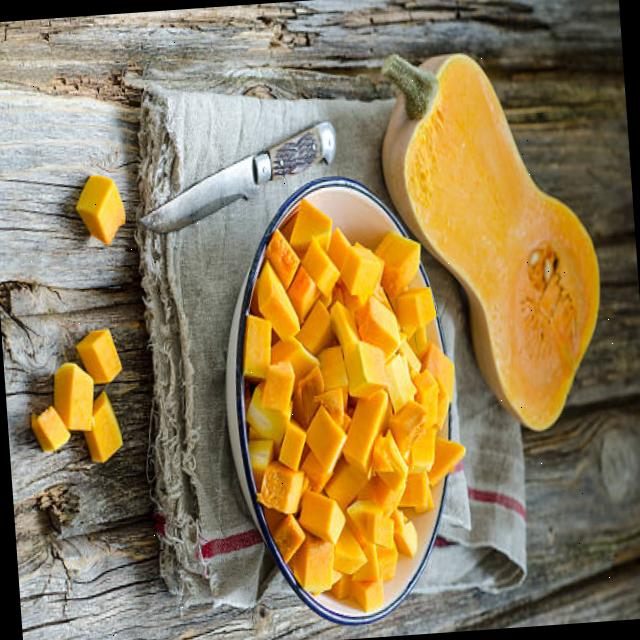pumpkin: (238, 205, 452, 614), (381, 54, 598, 431)
